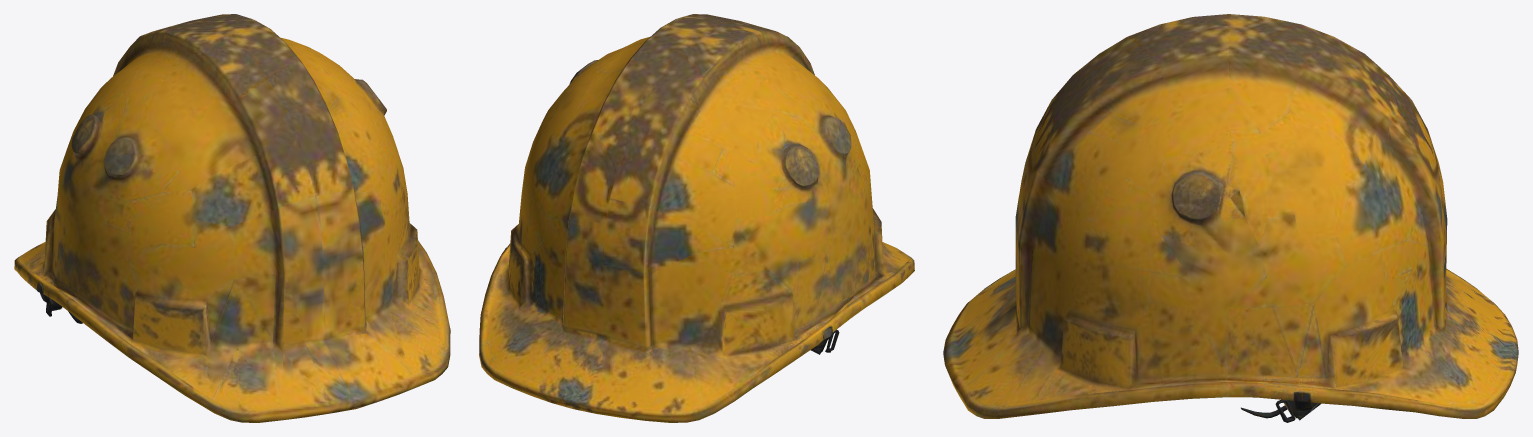
File: office-gear-helmet.glb
3 views of the same model, side by side, from view 1: azimuth 30°, elevation 25°; view 2: azimuth 150°, elevation 25°; view 3: azimuth 270°, elevation 25° (orthographic). The views are drawn at different scales.
Visible parts, largest first — view 1: gear-helmet; view 2: gear-helmet; view 3: gear-helmet.
Part boxes in pixels (x1=…): gear-helmet: x1=14, y1=14, x2=450, y2=422; gear-helmet: x1=479, y1=14, x2=914, y2=422; gear-helmet: x1=943, y1=14, x2=1518, y2=422.
Bounding box in the file's own units: 0.2312 × 0.1899 × 0.3.
1 material, 1 textured.
